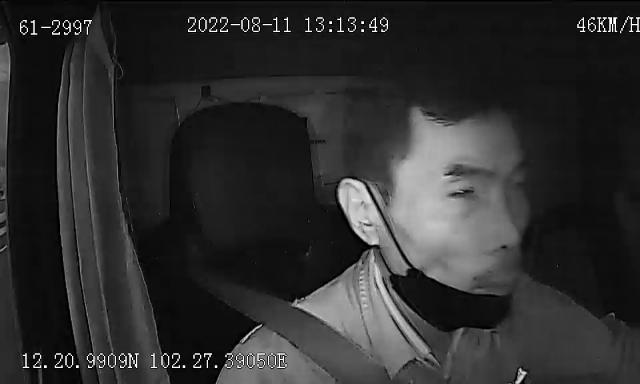SafeDriving: (441, 177, 484, 204)
Seatbelt: (224, 280, 394, 384)
